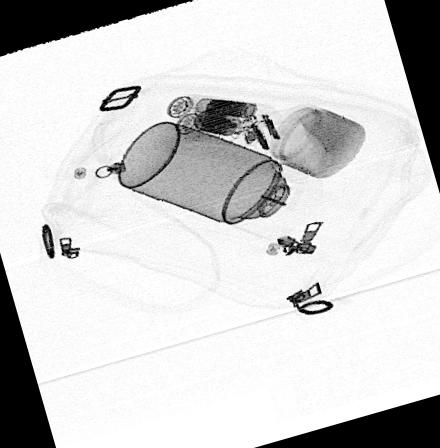Sprayer: (115, 120, 322, 239)
